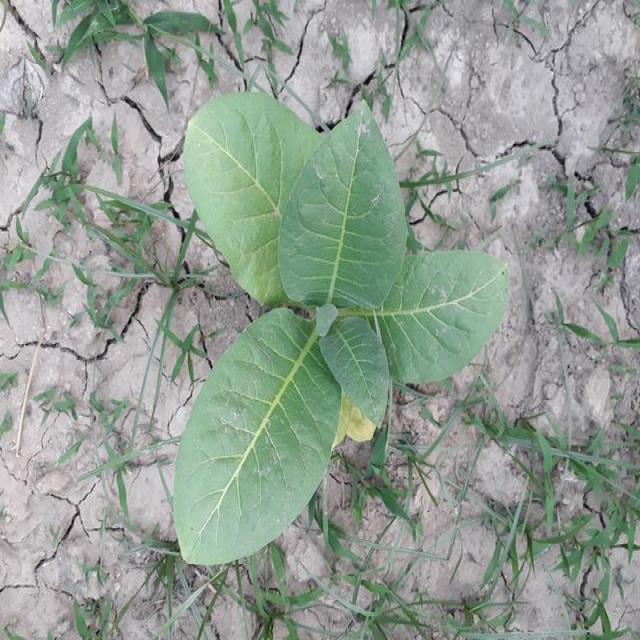crop: (178, 88, 504, 573)
